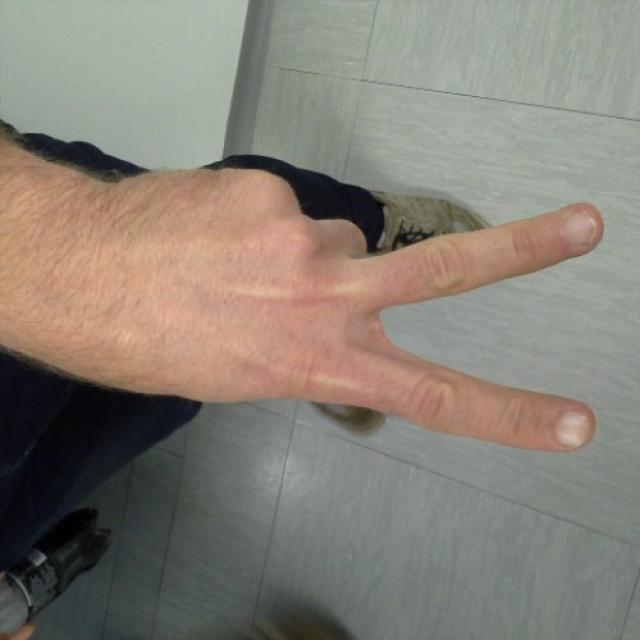scissors: (132, 170, 606, 453)
